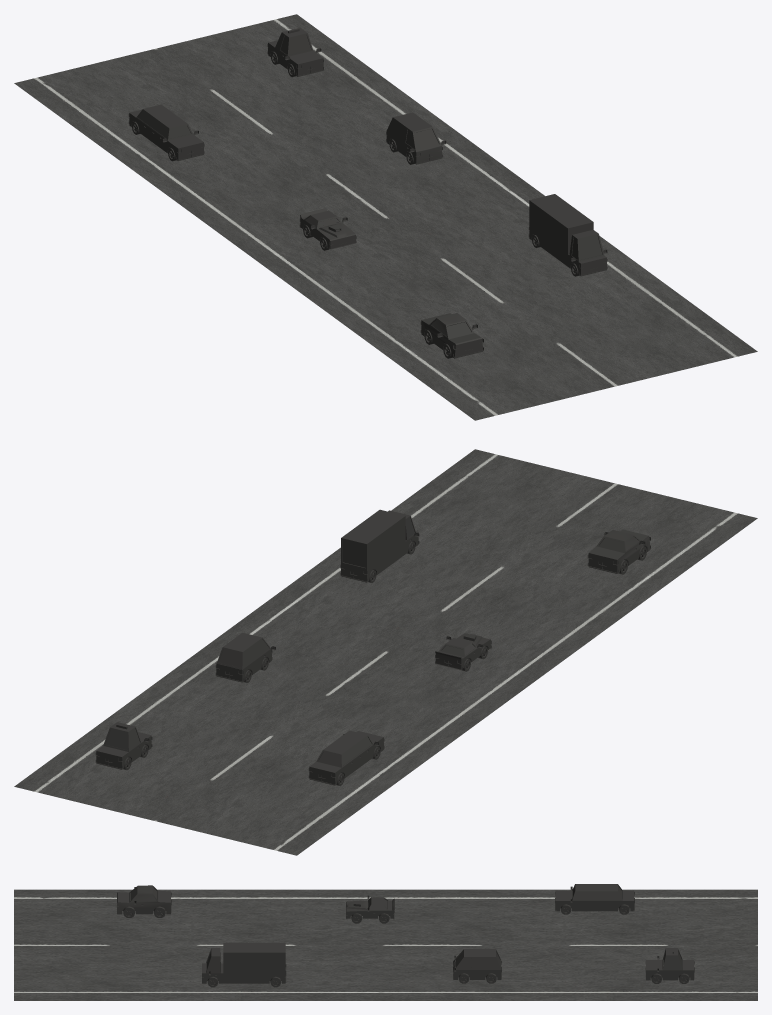
Rendered from low_poly_cars_pack.glb.
The picture shows the model from 3 angles, top to bottom: view 1: azimuth 30°, elevation 25°; view 2: azimuth 150°, elevation 25°; view 3: azimuth 270°, elevation 25°; orthographic projection. The views are drawn at different scales.
Parts seen in each view (by area): view 1: Plane.001_Material.002_0.001, car12, car10, car3, car16, car5, car7; view 2: Plane.001_Material.002_0.001, car12, car10, car3, car16, car5, car7; view 3: Plane.001_Material.002_0.001, car12, car10, car3, car16, car5, car7.
Part boxes in pixels (x1=…): Plane.001_Material.002_0.001: x1=14, y1=14, x2=757, y2=420; car12: x1=528, y1=194, x2=607, y2=276; car10: x1=128, y1=104, x2=204, y2=161; car3: x1=386, y1=112, x2=446, y2=164; car16: x1=420, y1=313, x2=483, y2=358; car5: x1=267, y1=27, x2=323, y2=77; car7: x1=299, y1=208, x2=356, y2=250; Plane.001_Material.002_0.001: x1=14, y1=449, x2=757, y2=855; car12: x1=340, y1=509, x2=419, y2=582; car10: x1=308, y1=730, x2=384, y2=786; car3: x1=215, y1=632, x2=275, y2=682; car16: x1=587, y1=529, x2=650, y2=574; car5: x1=95, y1=722, x2=152, y2=770; car7: x1=435, y1=633, x2=491, y2=671; Plane.001_Material.002_0.001: x1=14, y1=889, x2=757, y2=1000; car12: x1=202, y1=942, x2=286, y2=987; car10: x1=555, y1=884, x2=634, y2=914; car3: x1=453, y1=949, x2=501, y2=983; car16: x1=117, y1=885, x2=171, y2=917; car5: x1=645, y1=948, x2=694, y2=983; car7: x1=346, y1=895, x2=394, y2=923.
Bounding box in the file's own units: 21.92 × 3.19 × 61.88.
2 materials, 1 textured.
